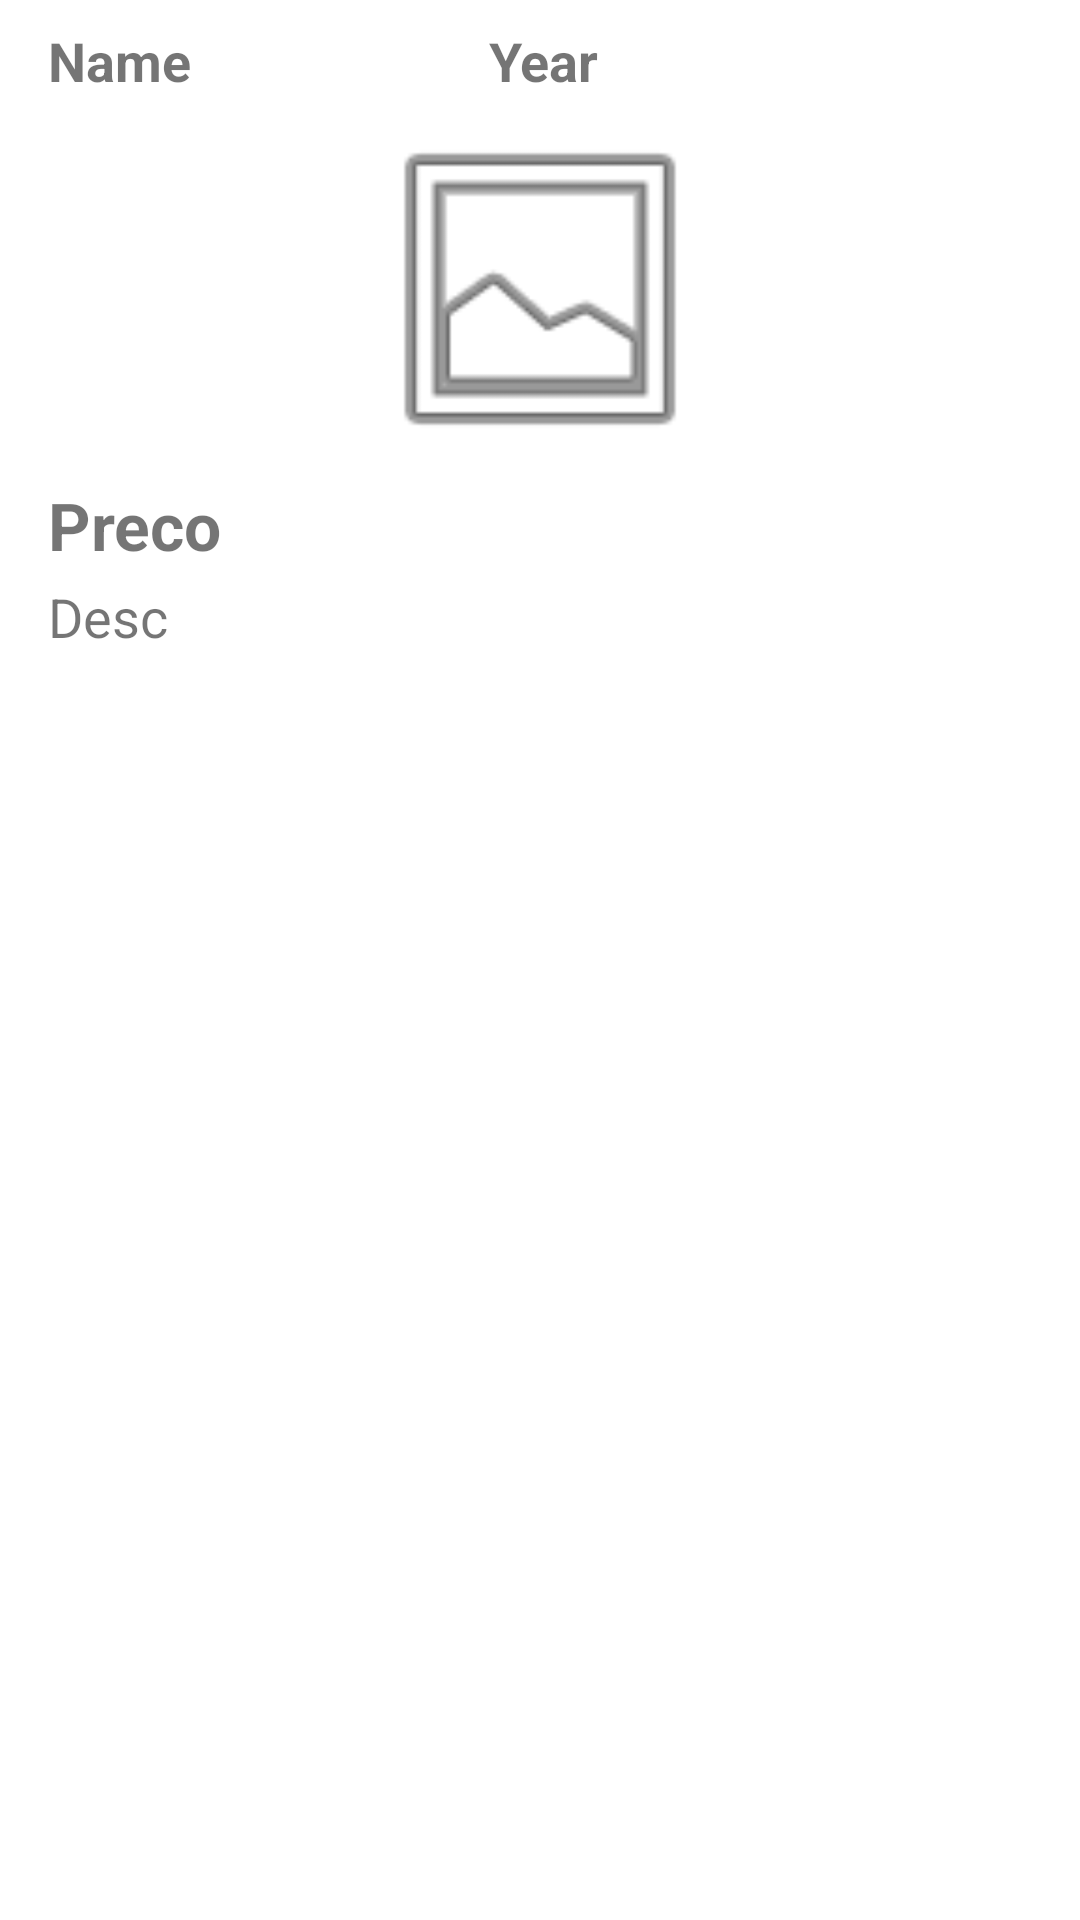

Screen size 1080 x 1920. Icon name, then its box in pixels as (x1,y1,x2,y2):
gallery: (404,153,676,425)
